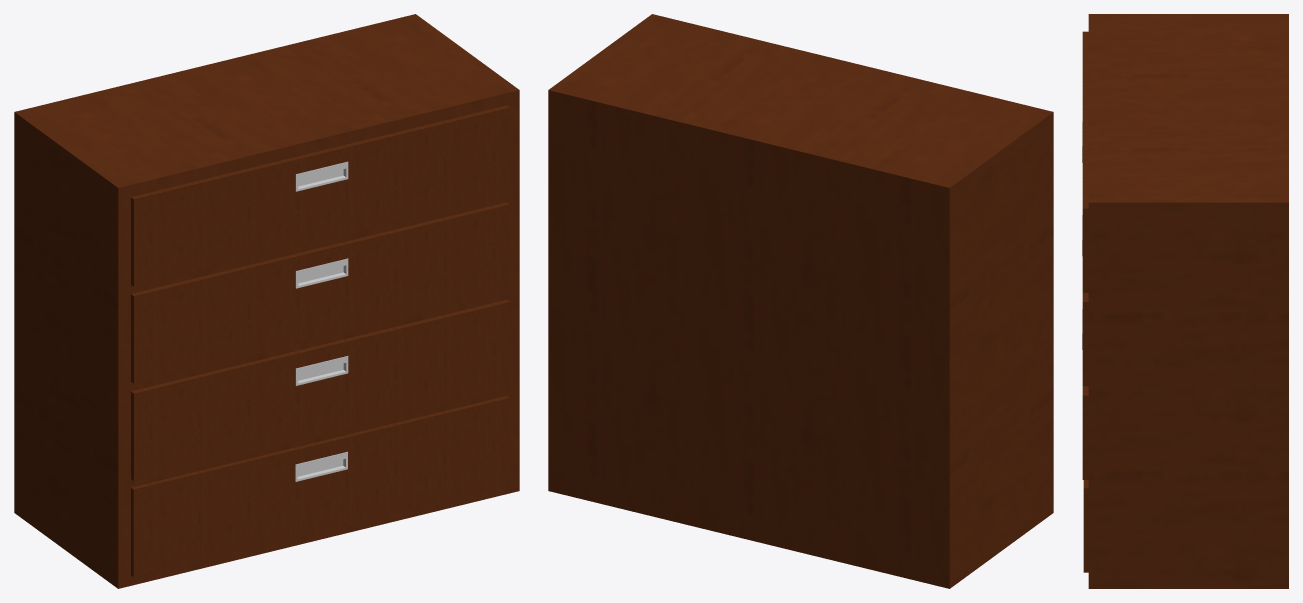
File: Drawer15.fbx
3 views of the same model, side by side, from view 1: azimuth 30°, elevation 25°; view 2: azimuth 150°, elevation 25°; view 3: azimuth 270°, elevation 25° (orthographic). The views are drawn at different scales.
Parts seen in each view (by area): view 1: Drawer15_Body, Drawer15_1, Drawer15_3, Drawer15_2, Drawer15_4; view 2: Drawer15_Body; view 3: Drawer15_Body, Drawer15_1, Drawer15_2, Drawer15_3, Drawer15_4.
Boxes of the visible parts, x1,y1,x2,y2 form: Drawer15_Body: (14, 14, 519, 588); Drawer15_1: (131, 105, 509, 286); Drawer15_3: (131, 299, 509, 480); Drawer15_2: (131, 202, 509, 383); Drawer15_4: (131, 396, 509, 576); Drawer15_Body: (548, 14, 1053, 588); Drawer15_Body: (1088, 14, 1288, 588); Drawer15_1: (1082, 31, 1088, 292); Drawer15_2: (1082, 215, 1088, 386); Drawer15_3: (1082, 309, 1088, 479); Drawer15_4: (1083, 480, 1088, 572).
Bounding box in the file's own units: 84.51 × 80.66 × 39.12.
